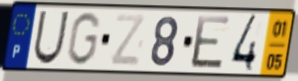4: (229, 13, 259, 74)
8: (150, 15, 180, 68)
E: (189, 14, 232, 71)
G: (65, 10, 103, 67)
U: (31, 9, 71, 66)
Z: (108, 12, 148, 68)
